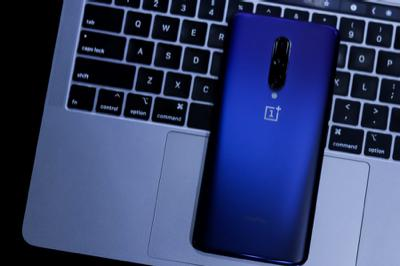cell-phone: (191, 6, 334, 266)
